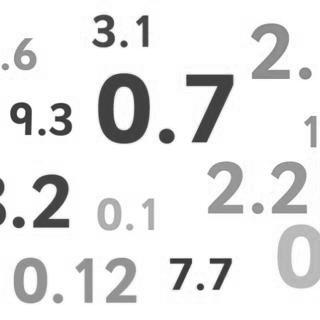.: (157, 122, 178, 153), (296, 61, 316, 81), (47, 287, 65, 307), (9, 212, 25, 234), (248, 197, 264, 219), (118, 34, 131, 53), (192, 278, 207, 294), (124, 219, 137, 237), (1, 56, 9, 77), (36, 126, 47, 139)
0: (91, 64, 152, 149), (10, 251, 50, 307), (94, 194, 123, 236)
1: (69, 252, 97, 308), (132, 10, 154, 53), (139, 192, 158, 236)
2: (243, 13, 294, 84), (28, 169, 75, 233), (198, 159, 246, 215), (269, 153, 311, 216), (100, 255, 142, 307)
3: (87, 9, 117, 51), (45, 99, 74, 141)
6: (10, 33, 43, 75)
7: (182, 62, 236, 147), (207, 251, 234, 297), (165, 256, 195, 294)
9: (8, 98, 34, 139)
